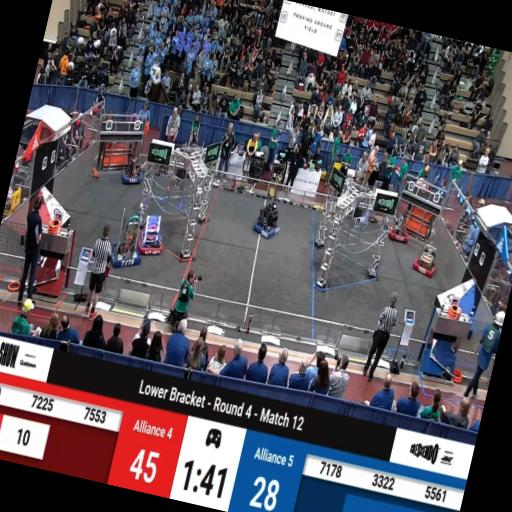robot: (107, 202, 153, 272), (136, 211, 170, 259), (251, 200, 284, 240), (410, 244, 440, 278), (120, 154, 148, 188), (388, 214, 414, 244)
